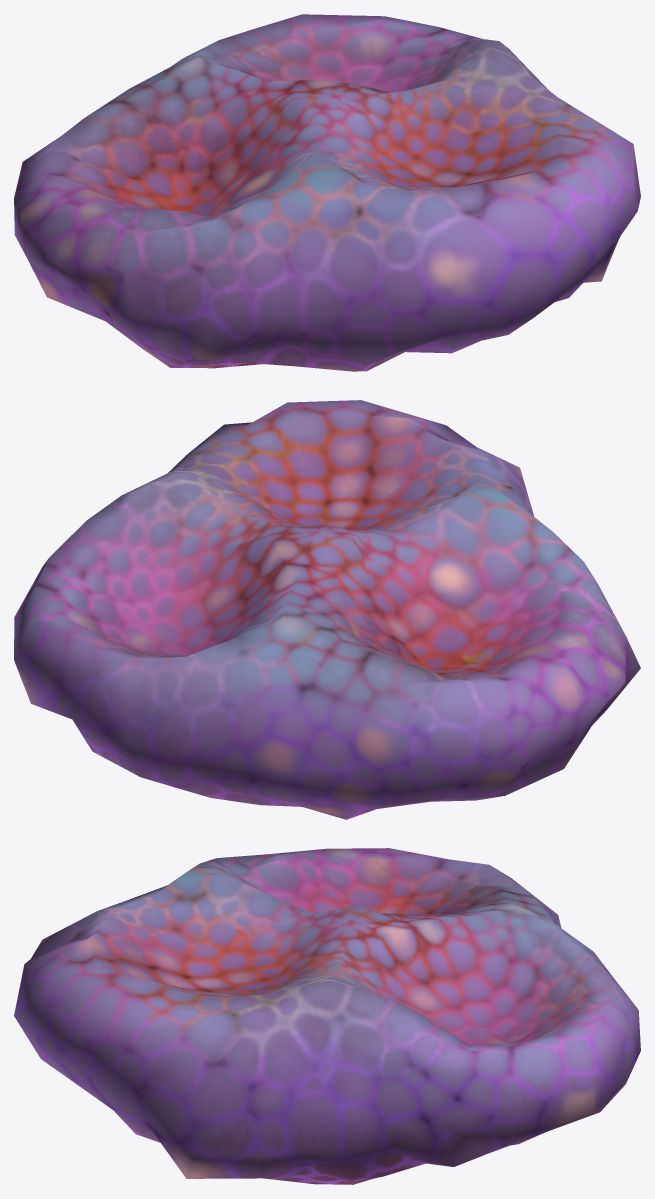
The model's file is coral01_FBX_still.fbx.
3 renders of one model, top to bottom at view 1: azimuth 30°, elevation 25°; view 2: azimuth 150°, elevation 25°; view 3: azimuth 270°, elevation 25°, orthographic. The views are drawn at different scales.
Visible parts, largest first — view 1: coral01_gameasset; view 2: coral01_gameasset; view 3: coral01_gameasset.
Boxes of the visible parts, left/top/right/bottom form: coral01_gameasset: left=14, top=14, right=640, bottom=371; coral01_gameasset: left=14, top=400, right=640, bottom=819; coral01_gameasset: left=14, top=848, right=640, bottom=1184.
Bounding box in the file's own units: 1.37 × 0.5921 × 1.48.
1 material, 1 textured.
